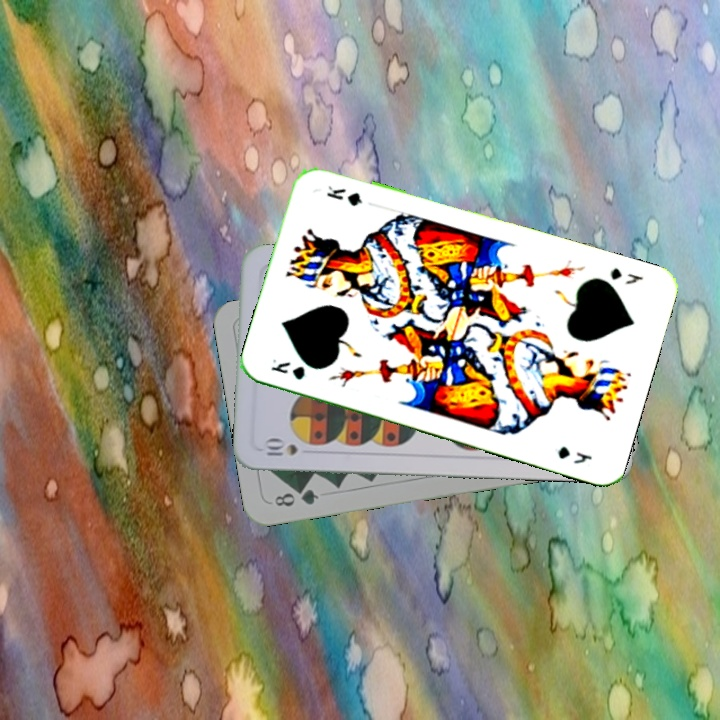G8: (270, 484, 321, 510)
GK: (267, 357, 308, 383), (606, 263, 646, 287)
S10: (262, 437, 301, 458)
